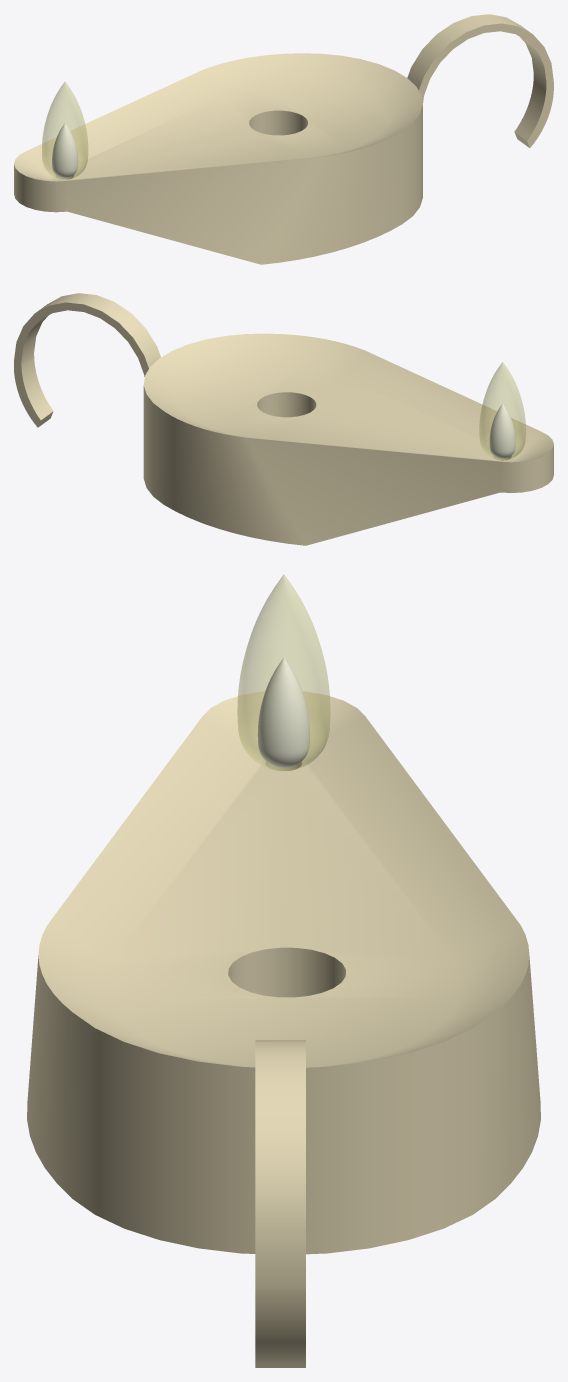
File: incensario-estilo-lampara-de-aladin.glb
3 views of the same model, one above another, from view 1: azimuth 30°, elevation 25°; view 2: azimuth 150°, elevation 25°; view 3: azimuth 270°, elevation 25° (orthographic). The views are drawn at different scales.
Visible parts, largest first — view 1: Root Node; view 2: Root Node; view 3: Root Node.
Boxes of the visible parts, bbox=[...] form: Root Node: bbox=[14, 14, 553, 264]; Root Node: bbox=[14, 293, 553, 545]; Root Node: bbox=[27, 574, 540, 1367].
Size of the model in its own units: 0.2283 by 0.0719 by 0.0964.
